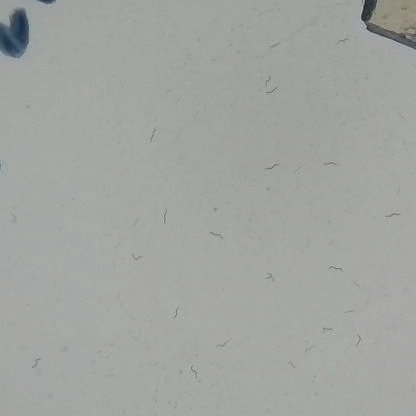worm: (213, 333, 233, 351), (184, 362, 201, 383), (146, 124, 162, 145), (27, 356, 45, 373), (168, 304, 184, 323), (260, 161, 285, 173), (160, 207, 174, 226), (205, 229, 231, 239), (7, 210, 23, 226), (323, 265, 347, 275), (127, 250, 145, 263), (303, 343, 321, 355), (383, 210, 404, 220), (352, 333, 367, 347), (291, 163, 305, 178), (265, 39, 284, 50), (335, 35, 351, 48), (321, 160, 343, 169), (261, 272, 277, 284), (265, 86, 279, 99), (349, 279, 366, 289), (256, 79, 277, 87), (322, 323, 336, 335), (288, 355, 300, 369)
